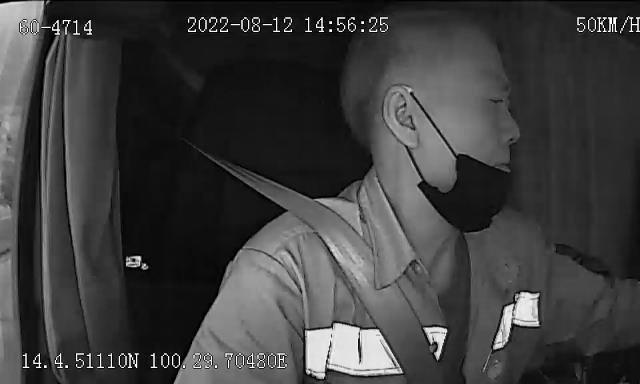Seatbelt: (200, 144, 446, 384)
